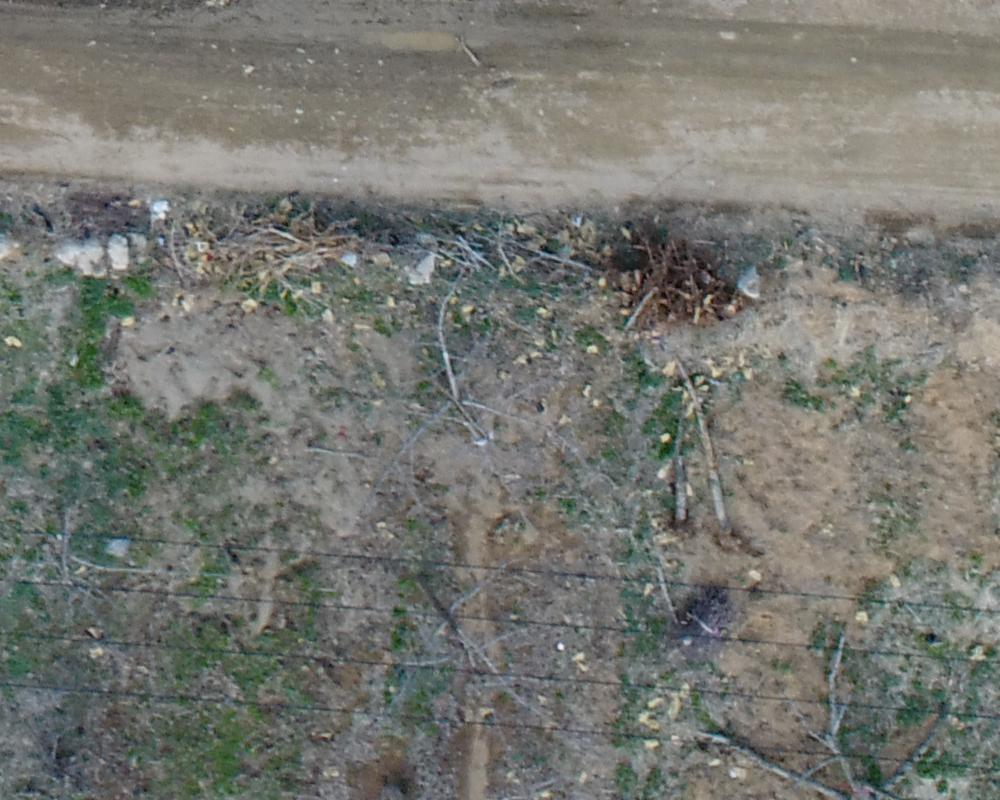apple: (378, 569, 579, 767), (375, 290, 550, 470), (13, 520, 168, 633)
